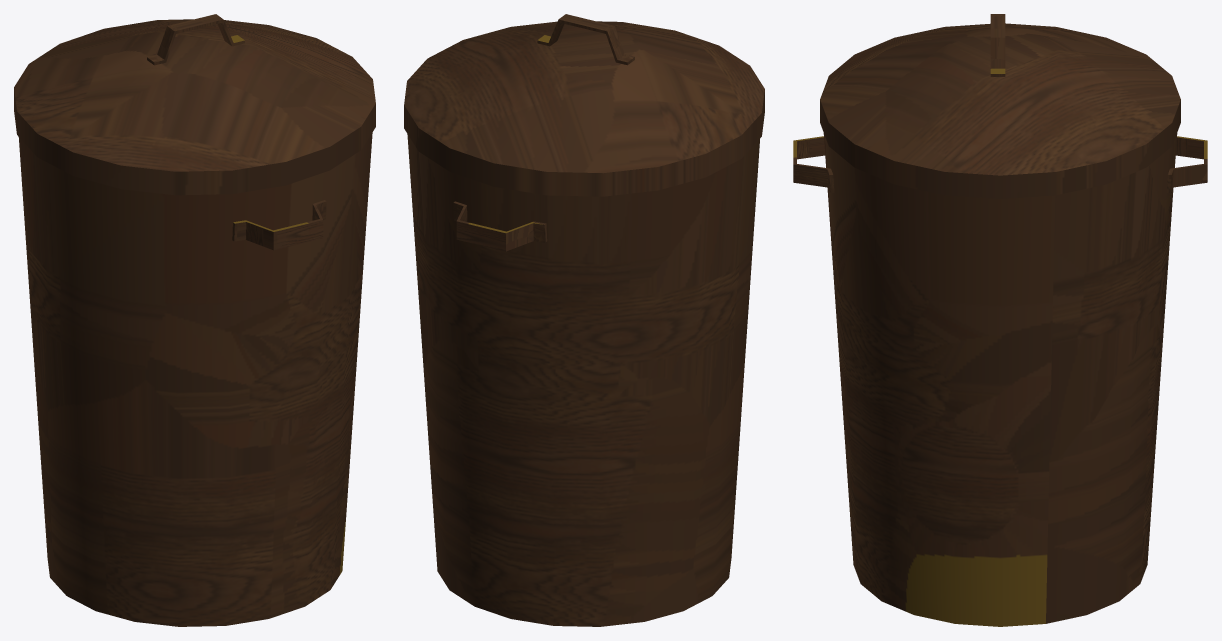
3 renders of one model, left to right at view 1: azimuth 30°, elevation 25°; view 2: azimuth 150°, elevation 25°; view 3: azimuth 270°, elevation 25°, orthographic.
Parts seen in each view (by area): view 1: lixo_low; view 2: lixo_low; view 3: lixo_low.
Boxes of the visible parts, x1,y1,x2,y2 form: lixo_low: [14, 14, 375, 626]; lixo_low: [404, 14, 764, 626]; lixo_low: [793, 14, 1207, 626].
Bounding box in the file's own units: 169 × 279 × 194.
